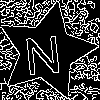N: (21, 26, 64, 76)
